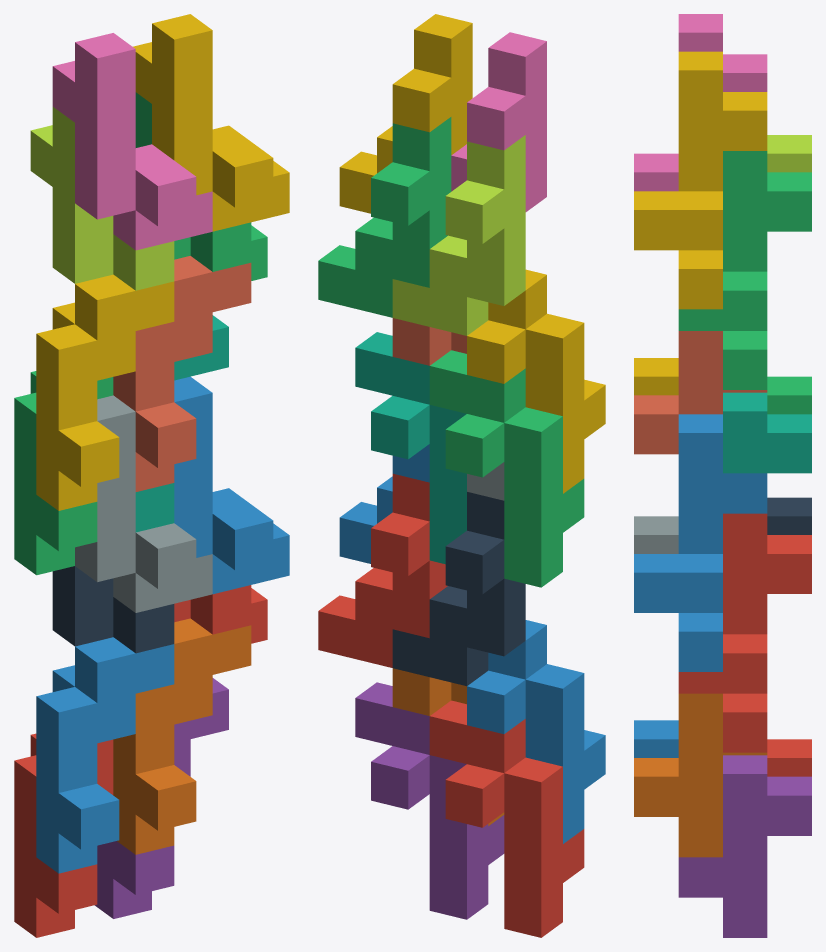
The model's file is tiling.obj.
3 renders of one model, left to right at view 1: azimuth 30°, elevation 25°; view 2: azimuth 150°, elevation 25°; view 3: azimuth 270°, elevation 25°, orthographic. The views are drawn at different scales.
Parts seen in each view (by area): view 1: copy_1_domain_2, copy_1_domain_4, copy_2_domain_4, copy_2_domain_8, copy_1_domain_6, copy_1_domain_8, copy_2_domain_2, copy_2_domain_6, copy_2_domain_3, copy_1_domain_1, copy_1_domain_3, copy_1_domain_5 (+4 smaller); view 2: copy_1_domain_1, copy_1_domain_3, copy_2_domain_3, copy_2_domain_7, copy_1_domain_5, copy_2_domain_1, copy_1_domain_2, copy_1_domain_4, copy_2_domain_5, copy_1_domain_7, copy_2_domain_8, copy_2_domain_4 (+4 smaller); view 3: copy_2_domain_8, copy_2_domain_6, copy_2_domain_5, copy_2_domain_7, copy_1_domain_5, copy_1_domain_6, copy_1_domain_8, copy_1_domain_7, copy_2_domain_4, copy_1_domain_3, copy_1_domain_1, copy_1_domain_2 (+4 smaller).
Part boxes in pixels (x1=…): copy_1_domain_2: x1=36, y1=637, x2=174, y2=873; copy_1_domain_4: x1=36, y1=274, x2=174, y2=510; copy_2_domain_4: x1=52, y1=33, x2=212, y2=250; copy_2_domain_8: x1=133, y1=14, x2=289, y2=231; copy_1_domain_6: x1=113, y1=618, x2=251, y2=854; copy_1_domain_8: x1=113, y1=256, x2=251, y2=491; copy_2_domain_2: x1=75, y1=395, x2=212, y2=612; copy_2_domain_6: x1=174, y1=376, x2=289, y2=594; copy_2_domain_3: x1=30, y1=107, x2=174, y2=290; copy_1_domain_1: x1=14, y1=733, x2=113, y2=937; copy_1_domain_3: x1=14, y1=371, x2=113, y2=575; copy_1_domain_5: x1=95, y1=678, x2=228, y2=918; copy_1_domain_1: x1=429, y1=700, x2=584, y2=937; copy_1_domain_3: x1=429, y1=350, x2=584, y2=587; copy_2_domain_3: x1=392, y1=135, x2=525, y2=335; copy_2_domain_7: x1=318, y1=117, x2=451, y2=317; copy_1_domain_5: x1=355, y1=682, x2=504, y2=919; copy_2_domain_1: x1=392, y1=492, x2=525, y2=686; copy_1_domain_2: x1=467, y1=620, x2=605, y2=843; copy_1_domain_4: x1=467, y1=269, x2=605, y2=493; copy_2_domain_5: x1=318, y1=473, x2=447, y2=667; copy_1_domain_7: x1=355, y1=332, x2=466, y2=564; copy_2_domain_8: x1=339, y1=14, x2=472, y2=213; copy_2_domain_4: x1=451, y1=32, x2=546, y2=211; copy_2_domain_8: x1=634, y1=51, x2=767, y2=309; copy_2_domain_6: x1=634, y1=414, x2=767, y2=671; copy_2_domain_5: x1=678, y1=513, x2=811, y2=752; copy_2_domain_7: x1=678, y1=151, x2=811, y2=389; copy_1_domain_5: x1=678, y1=755, x2=811, y2=937; copy_1_domain_6: x1=634, y1=693, x2=767, y2=857; copy_1_domain_8: x1=634, y1=331, x2=767, y2=454; copy_1_domain_7: x1=723, y1=392, x2=811, y2=473; copy_2_domain_4: x1=634, y1=14, x2=767, y2=191; copy_1_domain_3: x1=767, y1=376, x2=811, y2=414; copy_1_domain_1: x1=767, y1=739, x2=811, y2=776; copy_1_domain_2: x1=634, y1=720, x2=678, y2=757.
Bounding box in the file's own units: 6 × 22 × 4.
